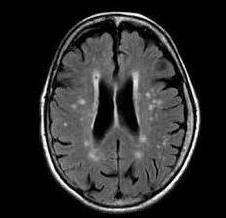Normal_Brain: (36, 1, 226, 218)
